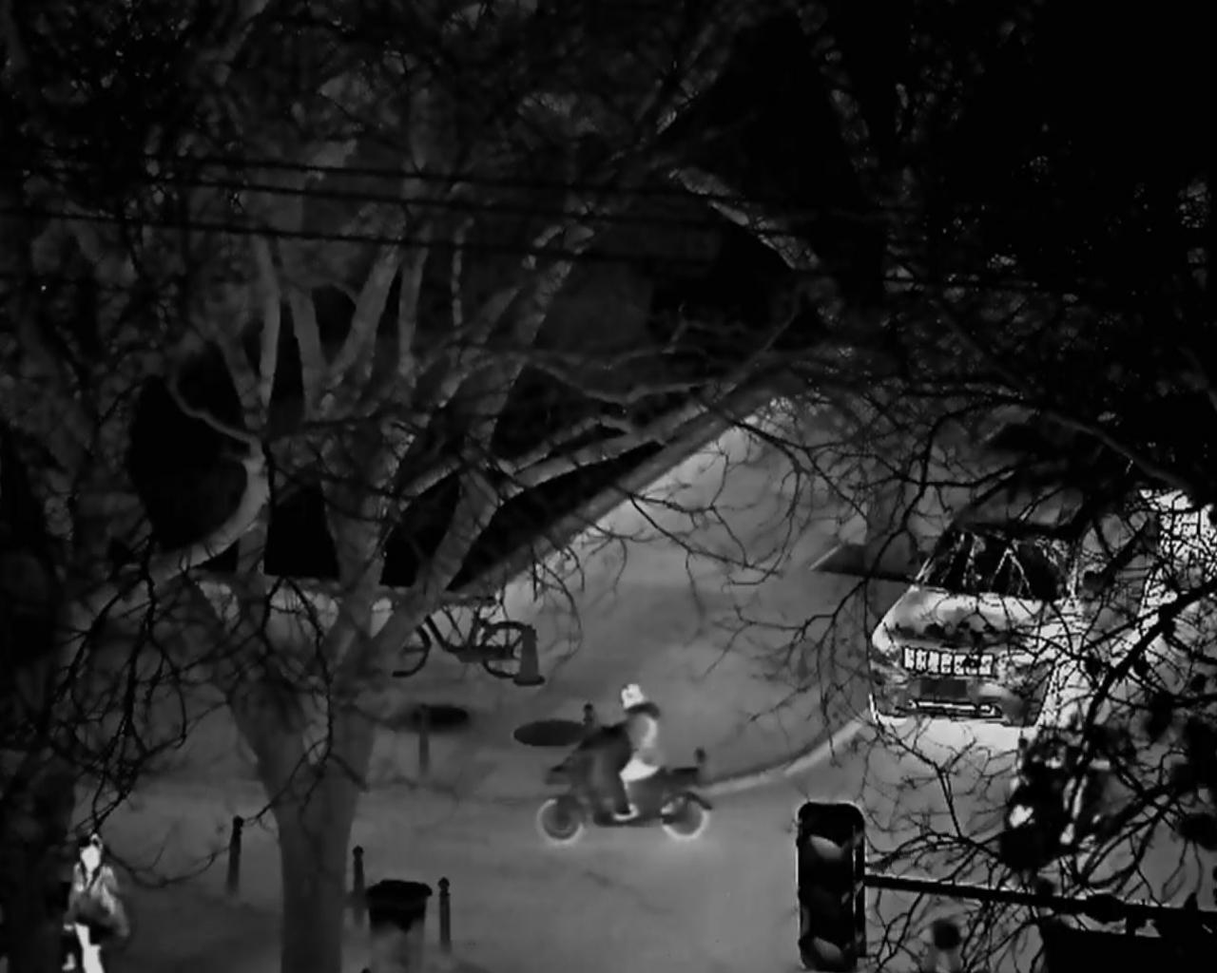person: (63, 832, 130, 973), (613, 683, 661, 822)
